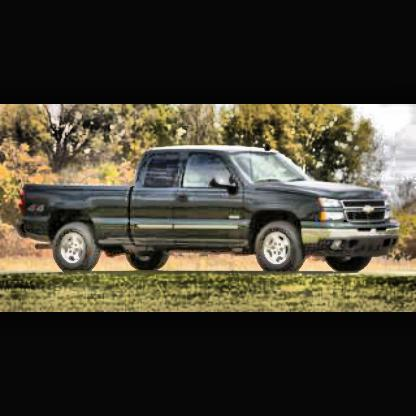Chevrolet Silverado 1500 Classic Extended Cab 2007: (14, 140, 404, 279)
